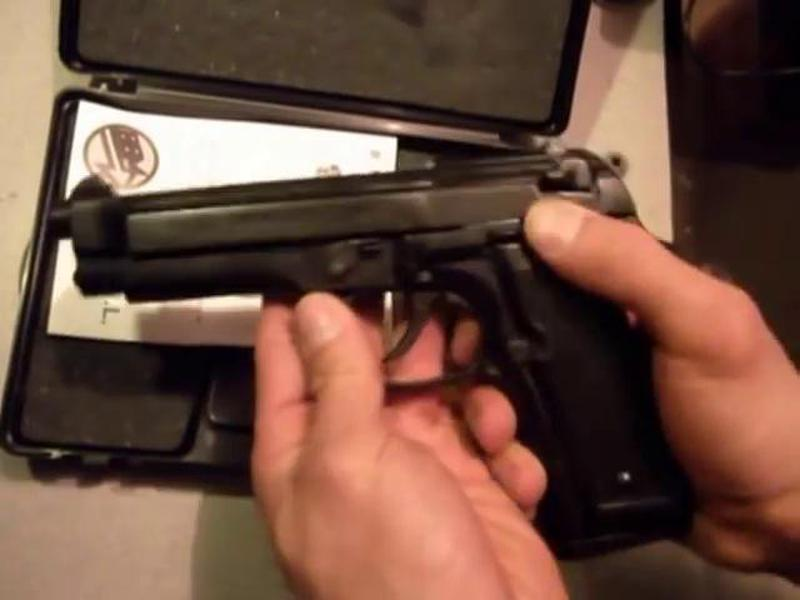Pistola: (55, 133, 693, 557)
